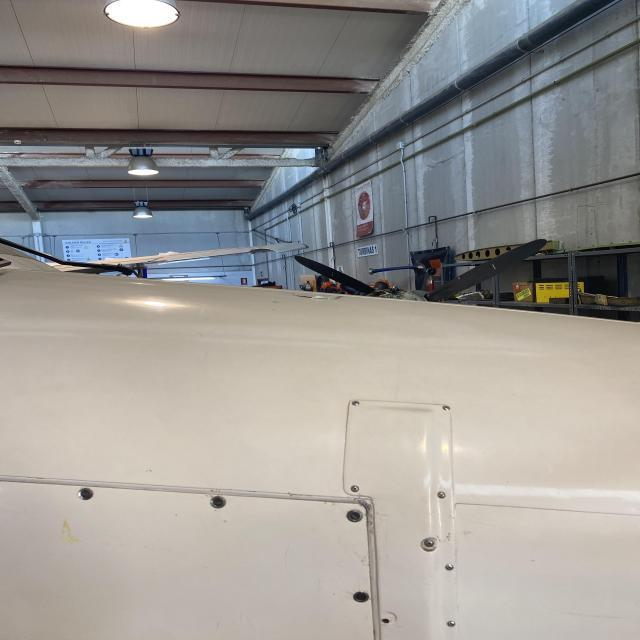Fastener Damage: (380, 618, 393, 626)
